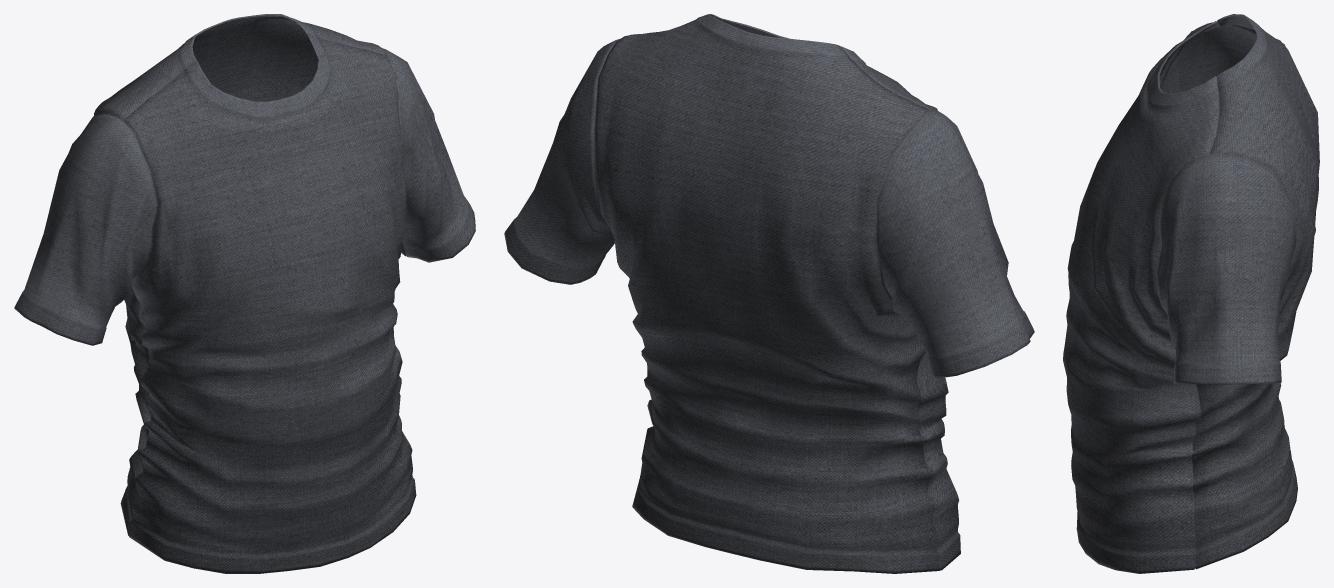
The model's file is fabric-shirt.obj.
3 views of the same model, side by side, from view 1: azimuth 30°, elevation 25°; view 2: azimuth 150°, elevation 25°; view 3: azimuth 270°, elevation 25° (orthographic). The views are drawn at different scales.
Bounding box in the file's own units: 17.39 × 17.87 × 8.43.
1 material, 1 textured.
